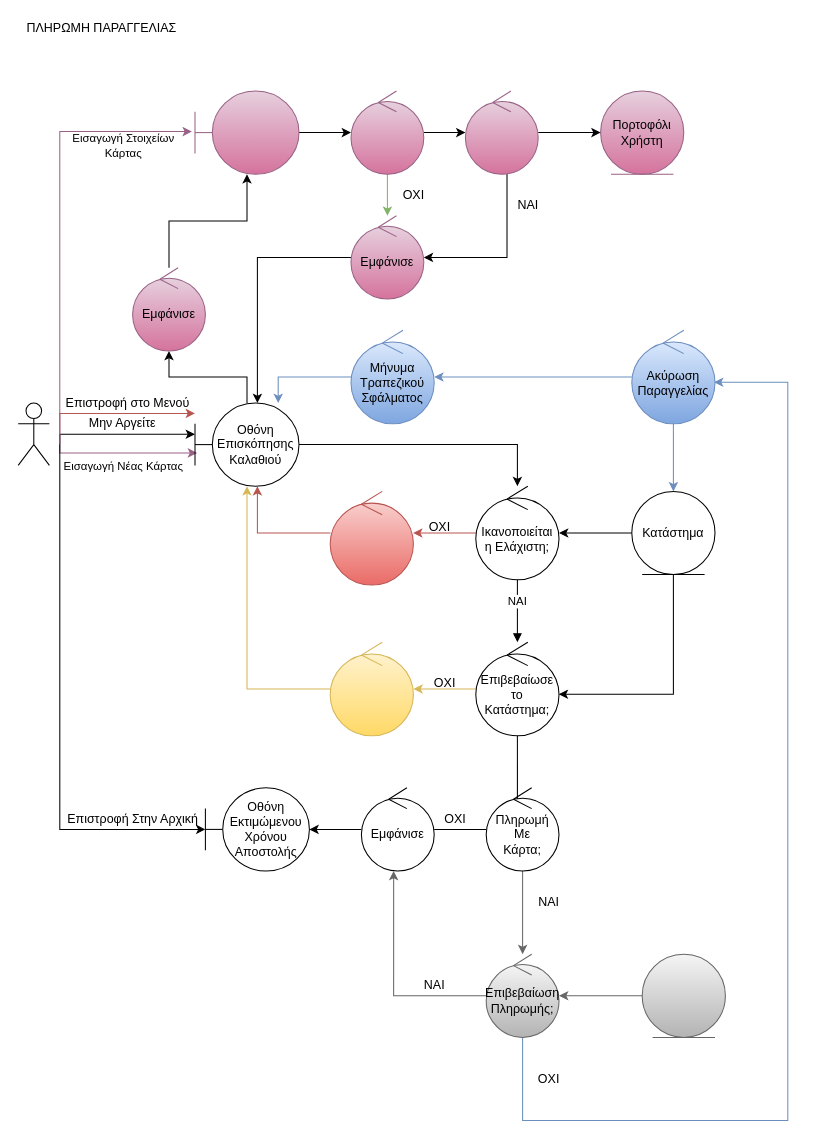
Some shapes in this 814 by 1147 pixel diagram are drawn without their labels. The centre of each missing label's shape, as x and y in pixels:
Actor: pixel 33 433
Αποθήκευση Κάρτας: pixel 501 132
Αποθήκευση;: pixel 387 132
Εμφάνιση Μηνύματος Απόρριψης: pixel 371 688
Εμφάνιση Μηνύματος Ελάχιστης: pixel 371 537
Οθόνη Εισαγωγής Νέας Κάρτας: pixel 246 132
Σύστημα Τραπέζης: pixel 683 995
